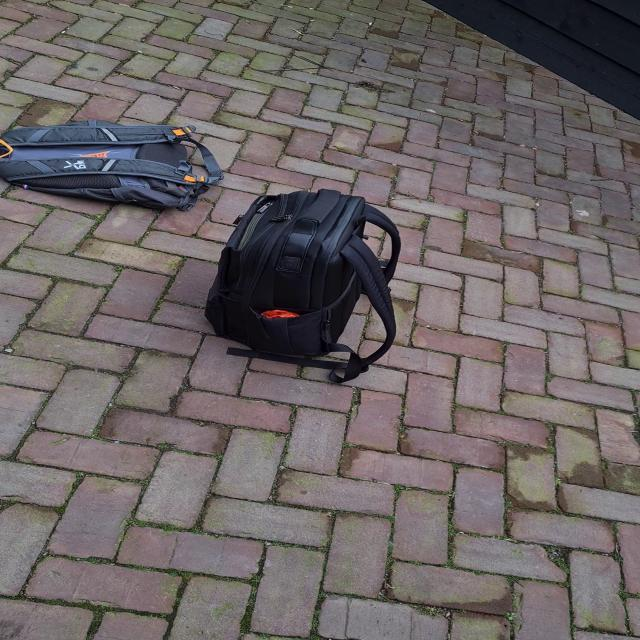backpack: (195, 183, 400, 359), (0, 114, 229, 212)
